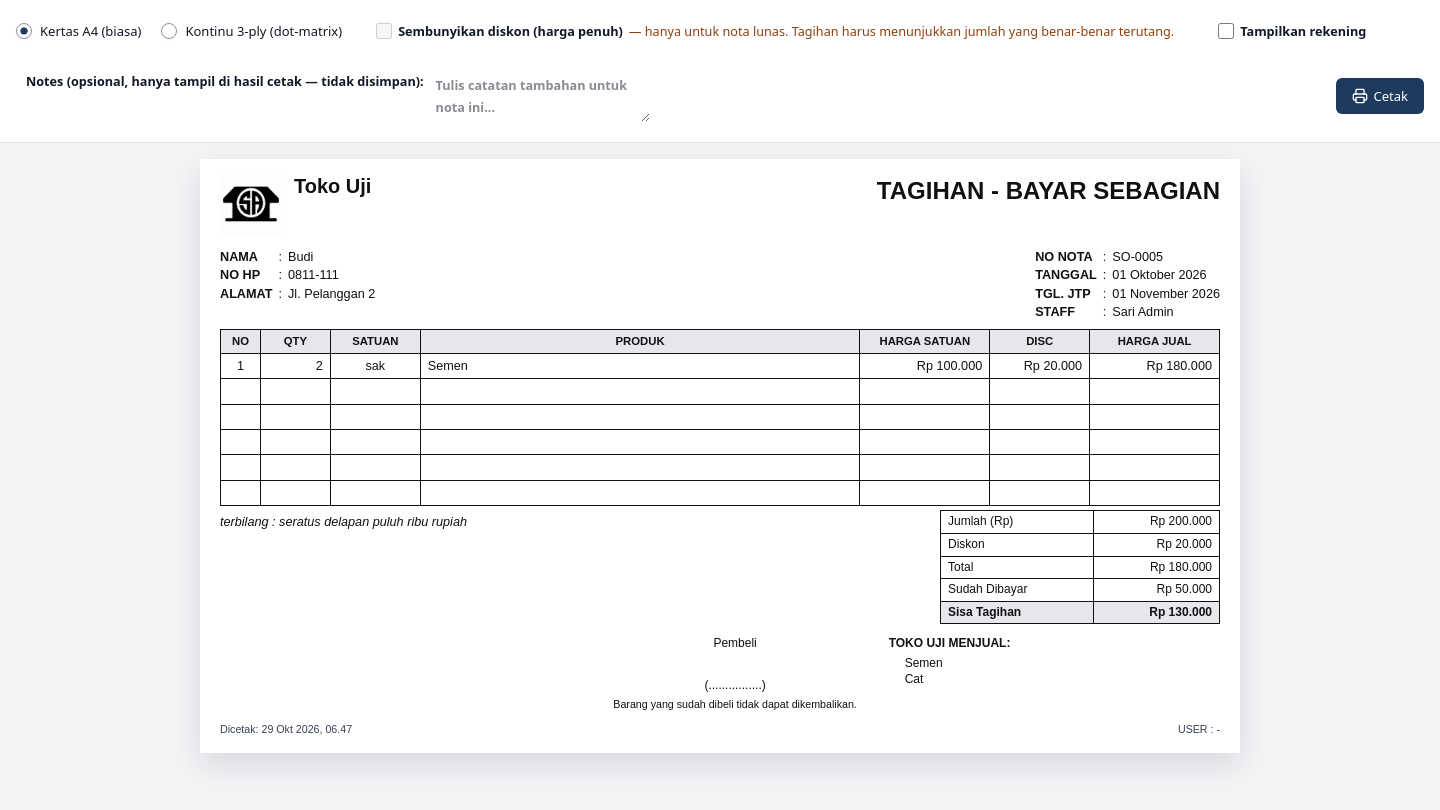
rekening di hasil cetak hanya bila dicentang (bawaan tidak tercetak) › nota bersisa: 'Transfer ke' (daftar rekening dokumen) tersembunyi sampai 'Tampilkan rekening' dicentang
The image size is (1440, 810).
Expected: the text "Transfer ke" is not shown
Click the checkbox labelled "Tampilkan rekening" at [1226, 31], box [1218, 23, 1234, 39]
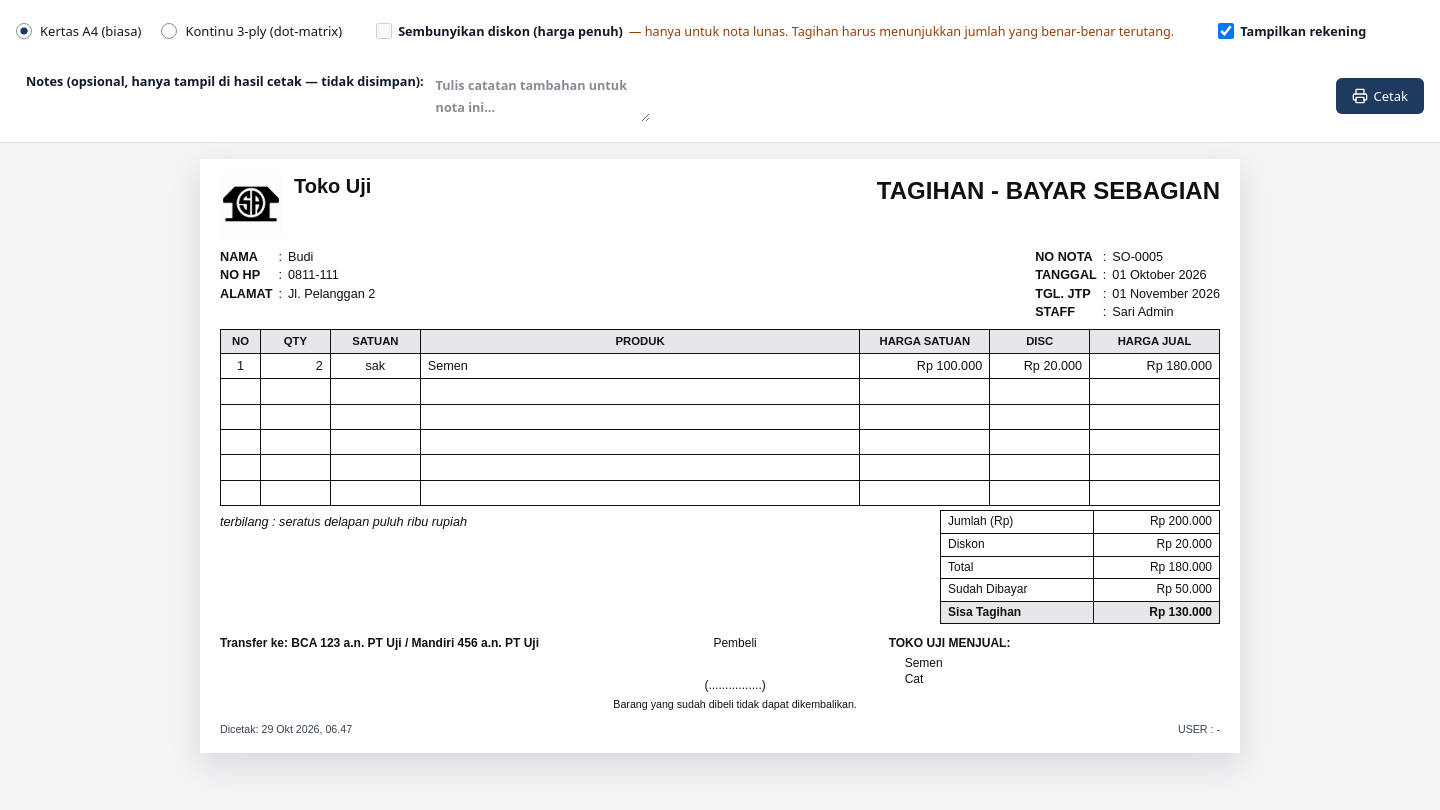
Expected: the text "Transfer ke: BCA 123 a.n. PT Uji / Mandiri 456 a.n. PT Uji" is shown, [220, 636, 582, 652]
